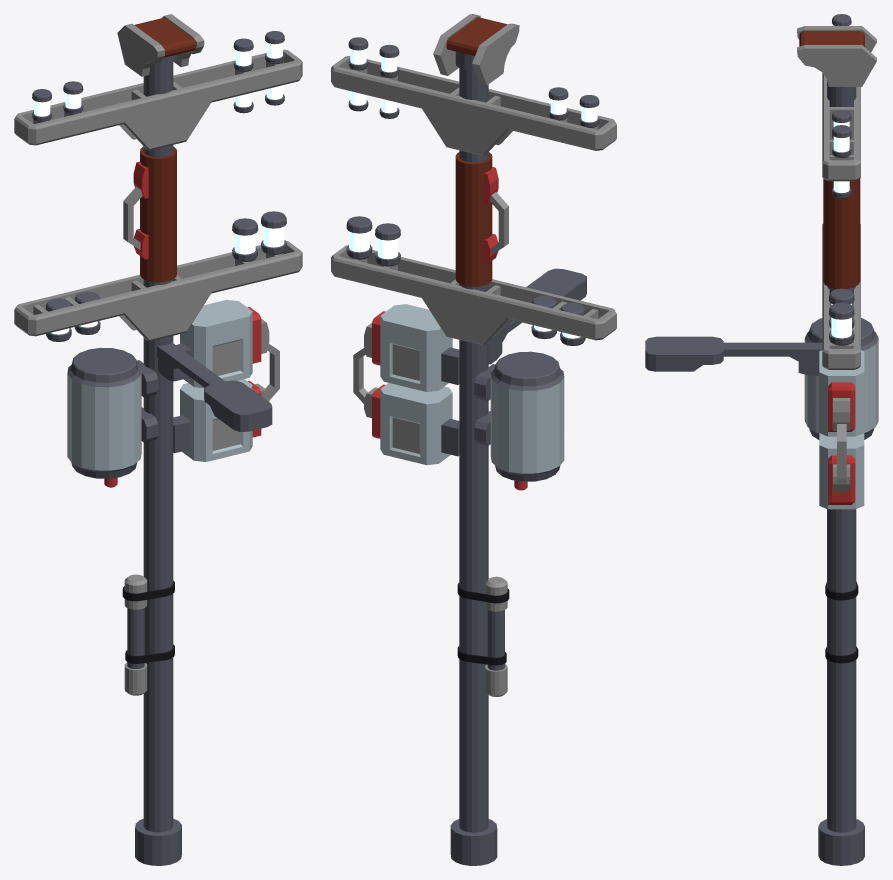
File: elPole_04.glb
3 views of the same model, side by side, from view 1: azimuth 30°, elevation 25°; view 2: azimuth 150°, elevation 25°; view 3: azimuth 270°, elevation 25° (orthographic).
Visible parts, largest first — view 1: geometry_0, geometry_3; view 2: geometry_0, geometry_3; view 3: geometry_0, geometry_3.
Boxes of the visible parts, bbox=[...] form: geometry_0: bbox=[14, 14, 302, 865]; geometry_3: bbox=[34, 42, 284, 334]; geometry_0: bbox=[331, 14, 616, 865]; geometry_3: bbox=[349, 49, 597, 338]; geometry_0: bbox=[645, 14, 878, 865]; geometry_3: bbox=[831, 25, 851, 338].
Bounding box in the file's own units: 0.877 × 2.53 × 0.6538.
3 materials, 3 textured.
